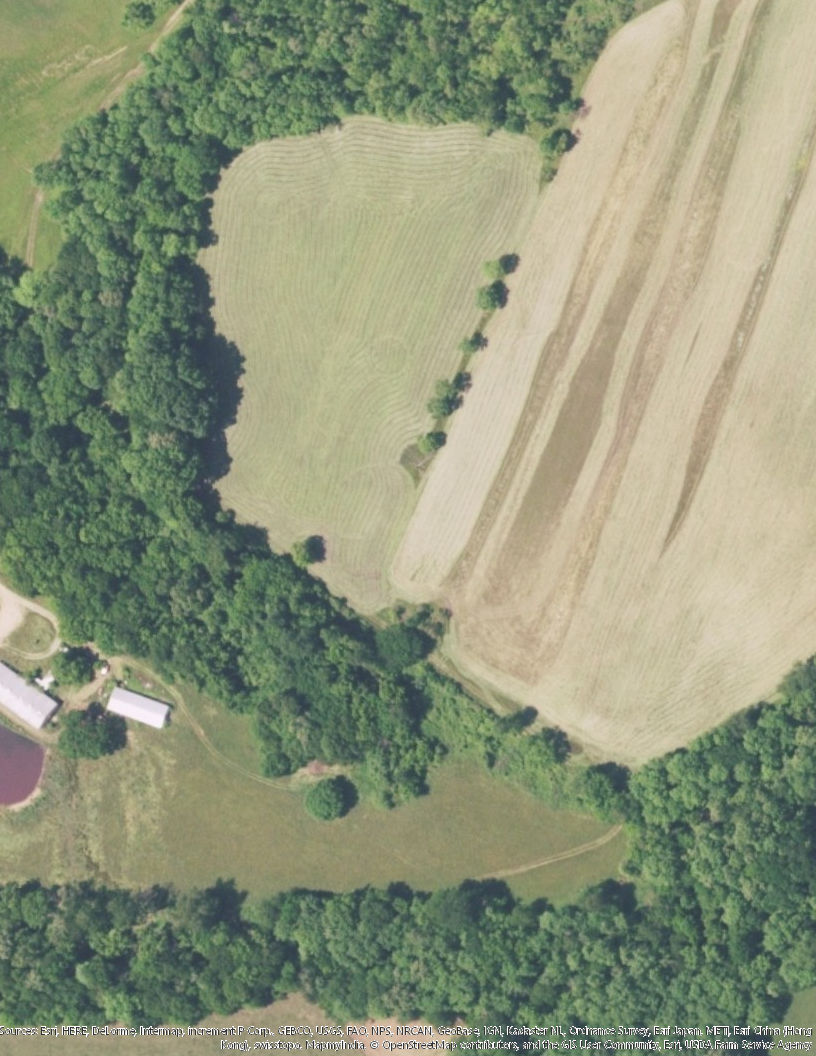cafo: (1, 658, 64, 734), (104, 685, 174, 733)
